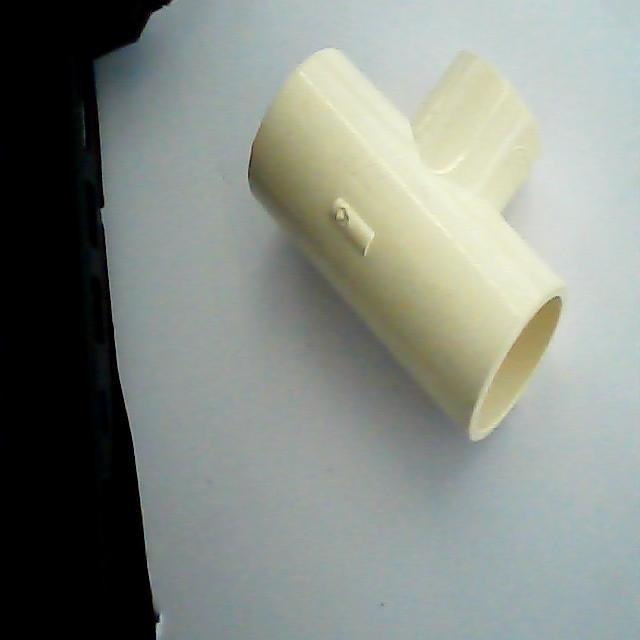T Joint: (246, 48, 568, 444)
